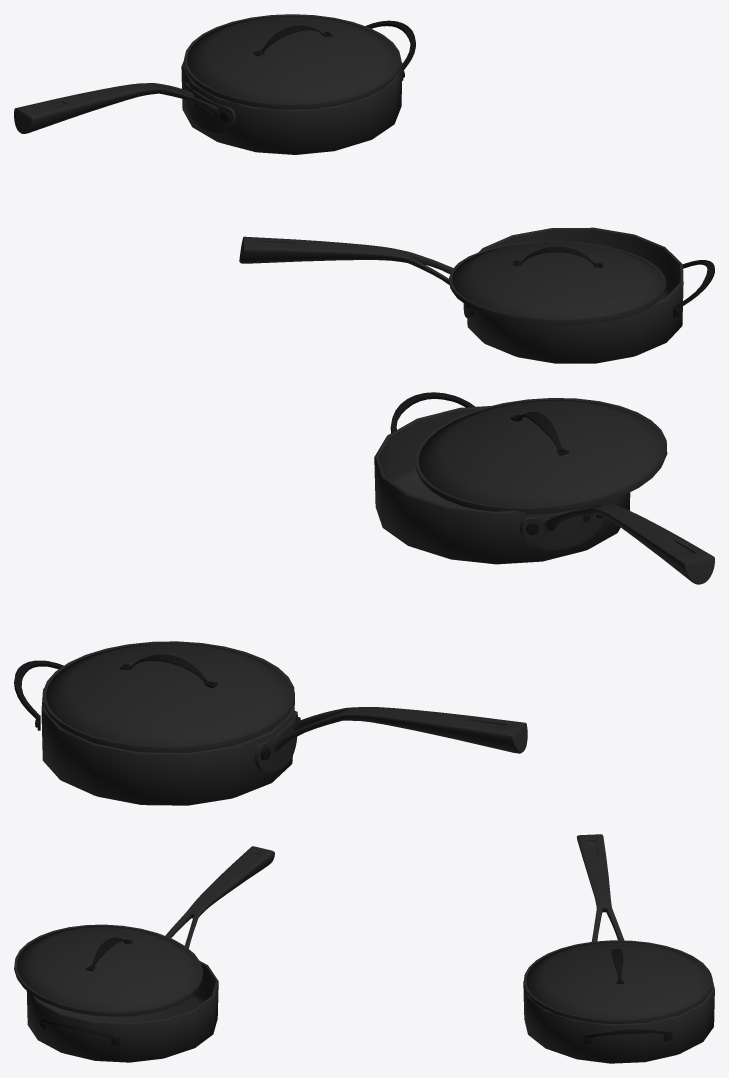
The model's file is Pot.FBX.
3 renders of one model, top to bottom at view 1: azimuth 30°, elevation 25°; view 2: azimuth 150°, elevation 25°; view 3: azimuth 270°, elevation 25°, orthographic. The views are drawn at different scales.
Visible parts, largest first — view 1: Pot (×2); view 2: Pot (×2); view 3: Pot (×2).
Part boxes in pixels (x1,y1,x2,y2): Pot (×2): [14, 14, 714, 363]; Pot (×2): [14, 392, 714, 805]; Pot (×2): [14, 834, 714, 1063].
Size of the model in its own units: 1.44 by 0.2813 by 2.45.
Materials: 2 (2 with a texture image).
